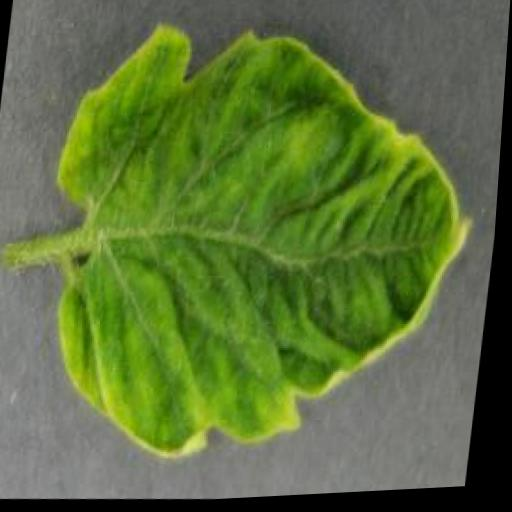Yellow Leaf Curl Virus: (26, 9, 494, 478)
